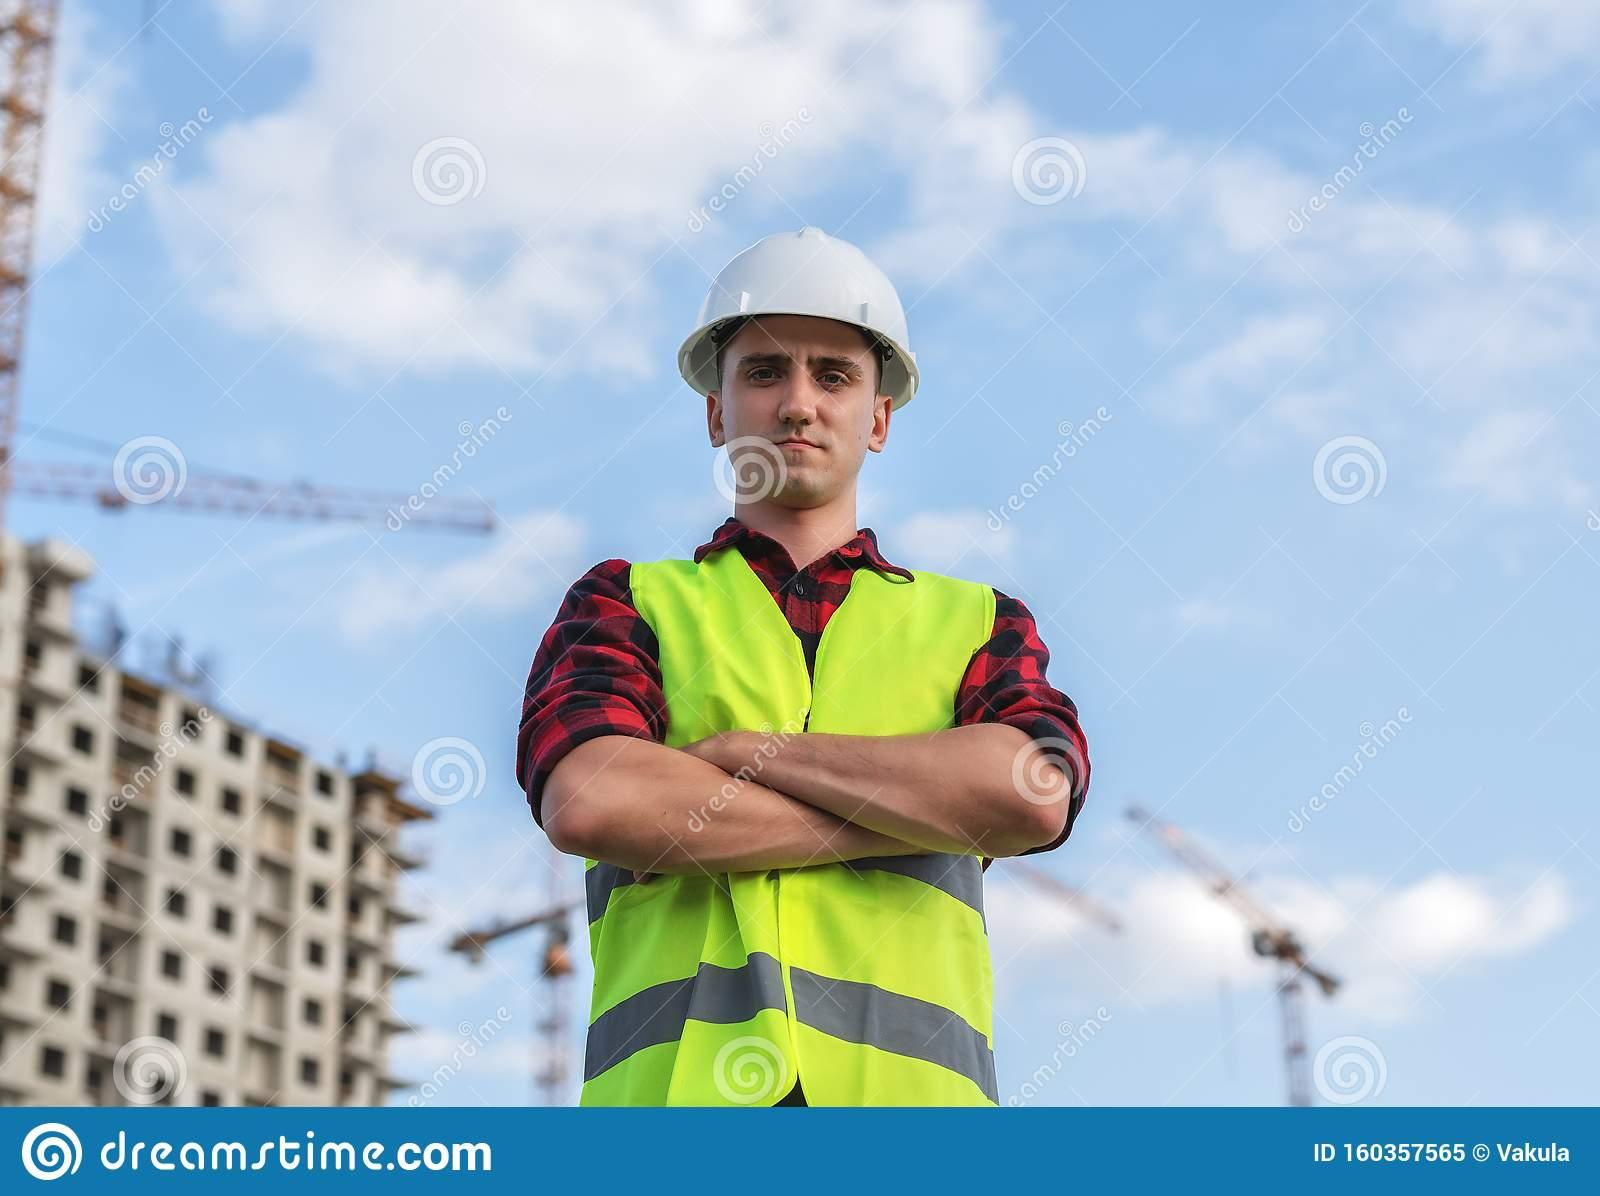hat: (648, 183, 954, 423)
vest: (534, 469, 1034, 1101)
